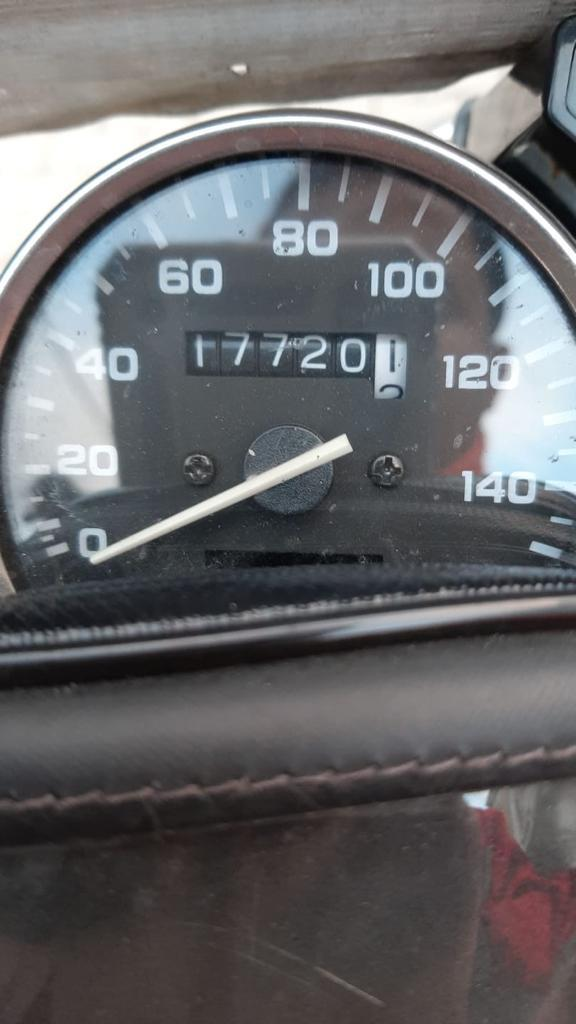0: (337, 335, 367, 375)
1: (382, 335, 400, 374), (191, 331, 207, 368)
2: (298, 332, 329, 371)
7: (260, 329, 289, 369), (222, 329, 251, 368)
odometer: (180, 325, 414, 405)
